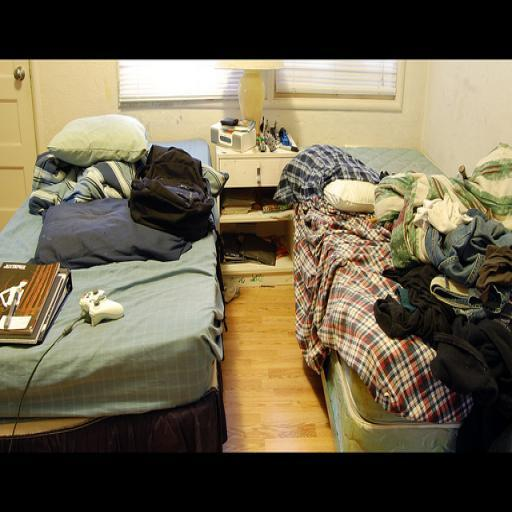bed: (0, 109, 243, 450), (289, 136, 512, 458)
